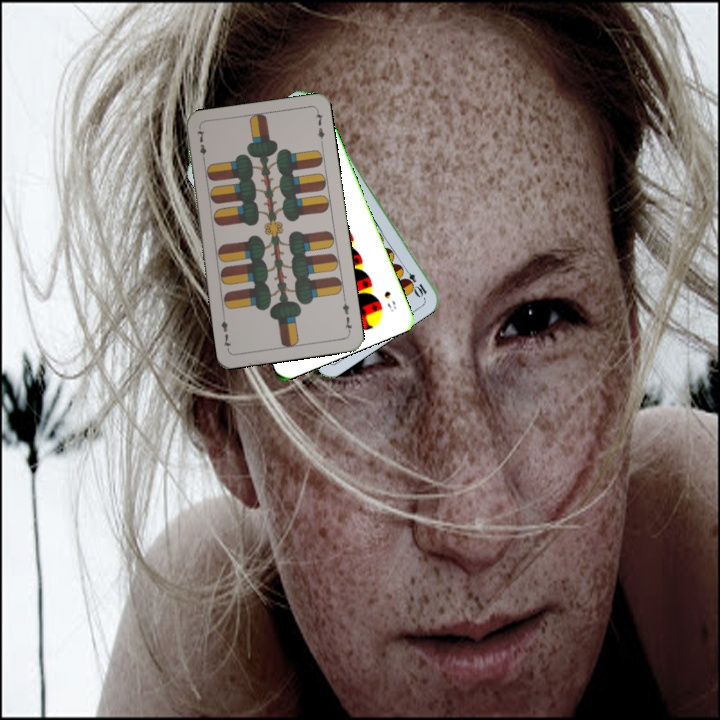E10: (398, 263, 429, 300)
E7: (339, 295, 355, 335), (193, 125, 209, 165)
S8: (380, 287, 399, 314)
